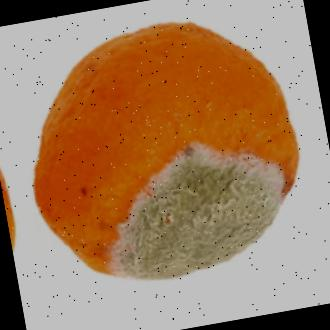Orange Rotten: (8, 0, 321, 304)
